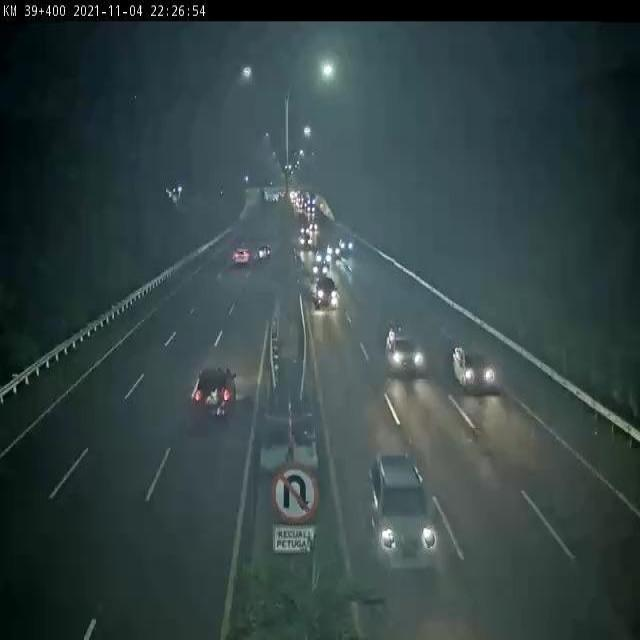Car: (369, 452, 438, 577), (194, 365, 238, 419), (454, 346, 499, 394), (385, 328, 426, 376), (313, 276, 340, 312), (232, 246, 252, 268), (310, 260, 329, 277), (326, 241, 341, 260), (296, 235, 313, 248)
